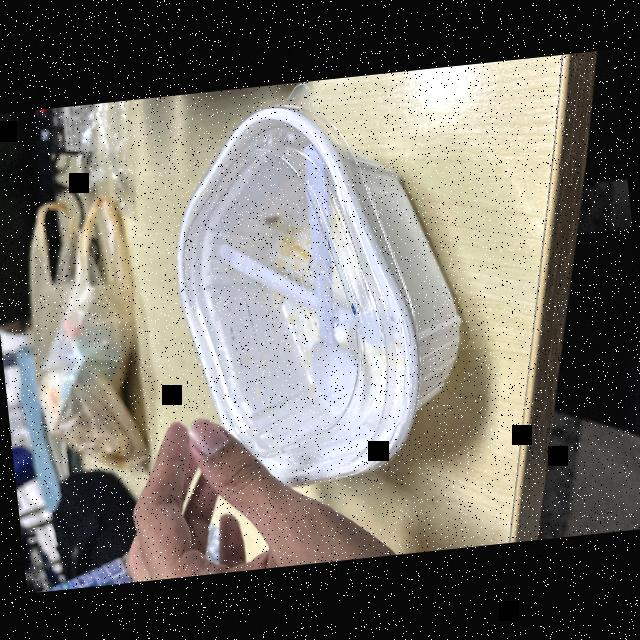plastic_box: (150, 86, 471, 522)
